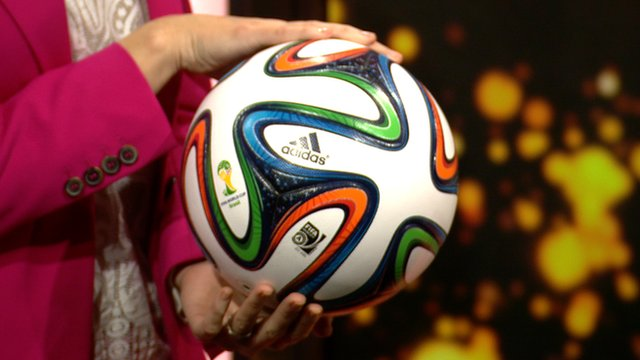football: (182, 38, 461, 317)
